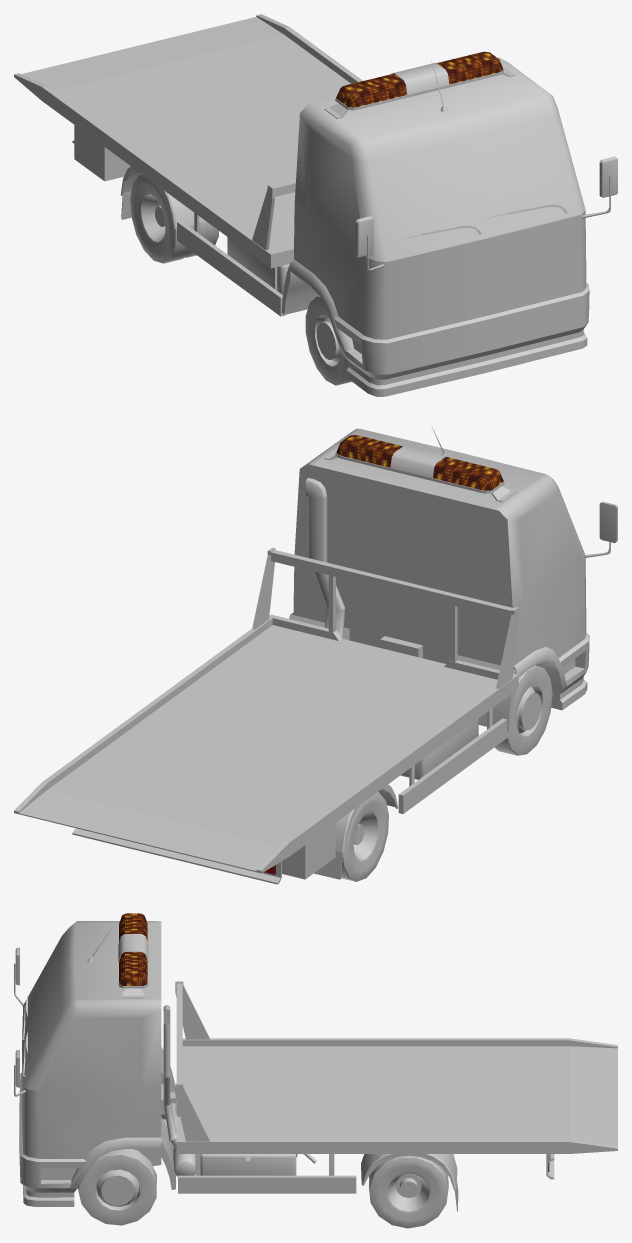
Rendered from Truck Lowpoly 1.FBX.
The picture shows the model from 3 angles, top to bottom: view 1: azimuth 30°, elevation 25°; view 2: azimuth 150°, elevation 25°; view 3: azimuth 270°, elevation 25°; orthographic projection. The views are drawn at different scales.
Visible parts, largest first — view 1: Truck Lowpoly1, Truck Lowpoly1_Wheel_BL, Truck Lowpoly1_Wheel_FL; view 2: Truck Lowpoly1, Truck Lowpoly1_Wheel_FL, Truck Lowpoly1_Wheel_BL; view 3: Truck Lowpoly1, Truck Lowpoly1_Wheel_BR, Truck Lowpoly1_Wheel_FR.
Boxes of the visible parts, x1=… form: Truck Lowpoly1: x1=14, y1=14, x2=617, y2=396; Truck Lowpoly1_Wheel_BL: x1=130, y1=174, x2=218, y2=263; Truck Lowpoly1_Wheel_FL: x1=305, y1=295, x2=351, y2=385; Truck Lowpoly1: x1=14, y1=426, x2=617, y2=884; Truck Lowpoly1_Wheel_FL: x1=487, y1=665, x2=552, y2=755; Truck Lowpoly1_Wheel_BL: x1=341, y1=792, x2=388, y2=881; Truck Lowpoly1: x1=14, y1=913, x2=617, y2=1211; Truck Lowpoly1_Wheel_BR: x1=369, y1=1155, x2=448, y2=1228; Truck Lowpoly1_Wheel_FR: x1=78, y1=1149, x2=156, y2=1225.
Bounding box in the file's own units: 2.38 × 2.63 × 5.55.
